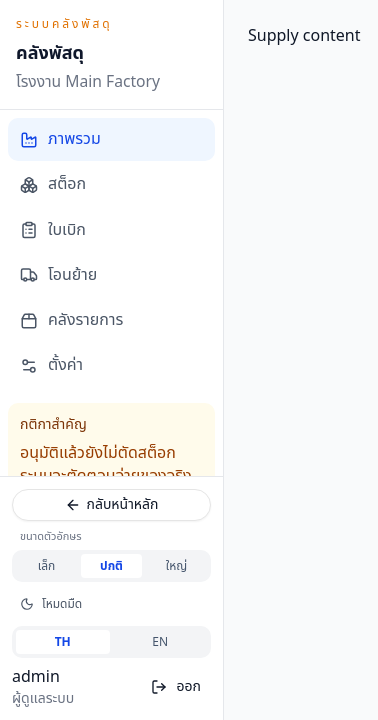
Scenario: SupplyShell › switches all sidebar copy when the language is changed
This screenshot has width=378, height=720.
Expected: the link "ภาพรวม" is shown, [8, 118, 215, 161]
Click the button "EN" at (160, 642), box [114, 630, 207, 654]
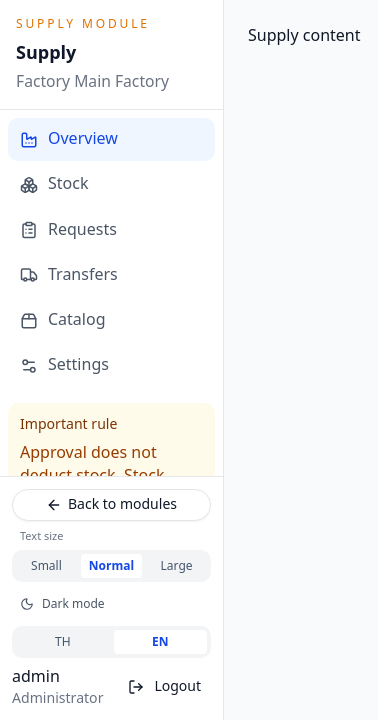
Expected: the text "SUPPLY MODULE" is shown, [16, 15, 150, 33]
Expected: the link "Overview" is shown, [8, 118, 215, 161]
Expected: the text "Important rule" is shown, [20, 414, 117, 435]
